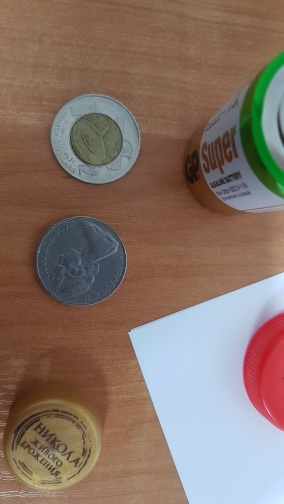coin: (34, 215, 129, 308), (49, 93, 141, 185)
